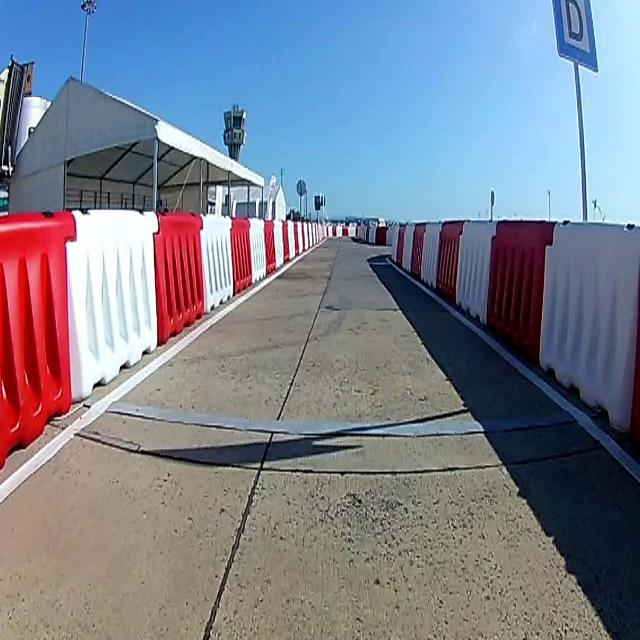durak: (555, 1, 597, 71)
